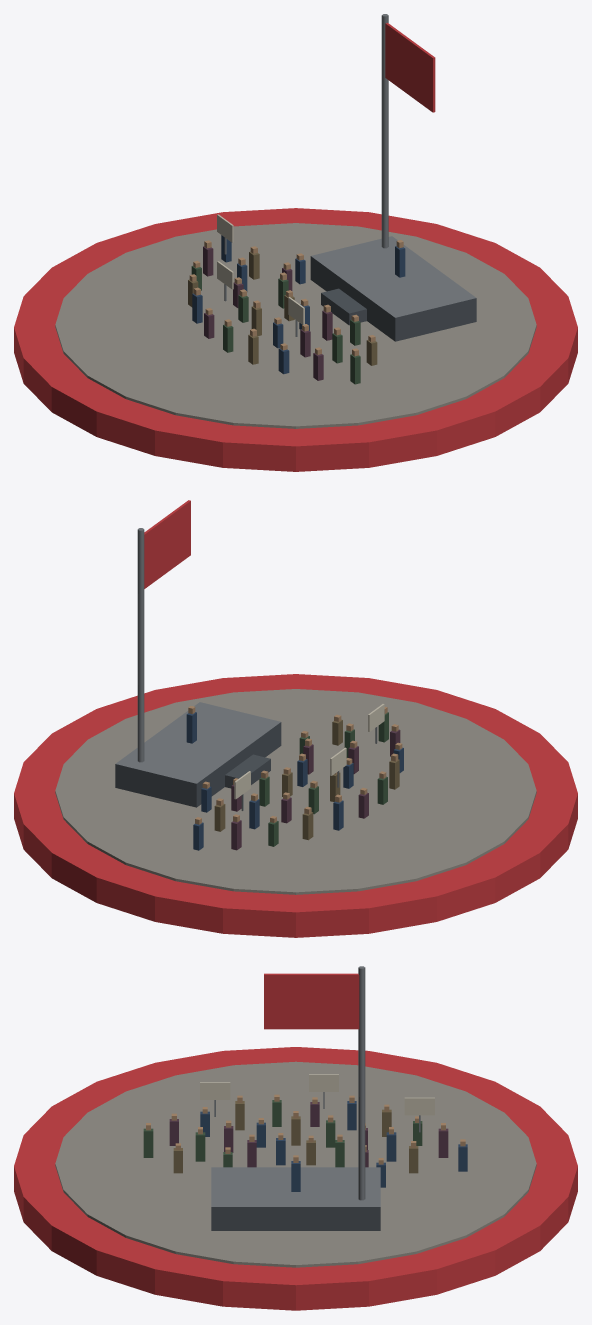
The model's file is rally_red.glb.
3 views of the same model, one above another, from view 1: azimuth 30°, elevation 25°; view 2: azimuth 150°, elevation 25°; view 3: azimuth 270°, elevation 25° (orthographic).
Parts seen in each view (by area): view 1: rally_red; view 2: rally_red; view 3: rally_red.
Boxes of the visible parts, box(x1,y1,x2,y2) form: rally_red: box(14, 14, 577, 471); rally_red: box(14, 500, 577, 937); rally_red: box(14, 966, 577, 1310).
Bounding box in the file's own units: 30 × 16.65 × 30.
